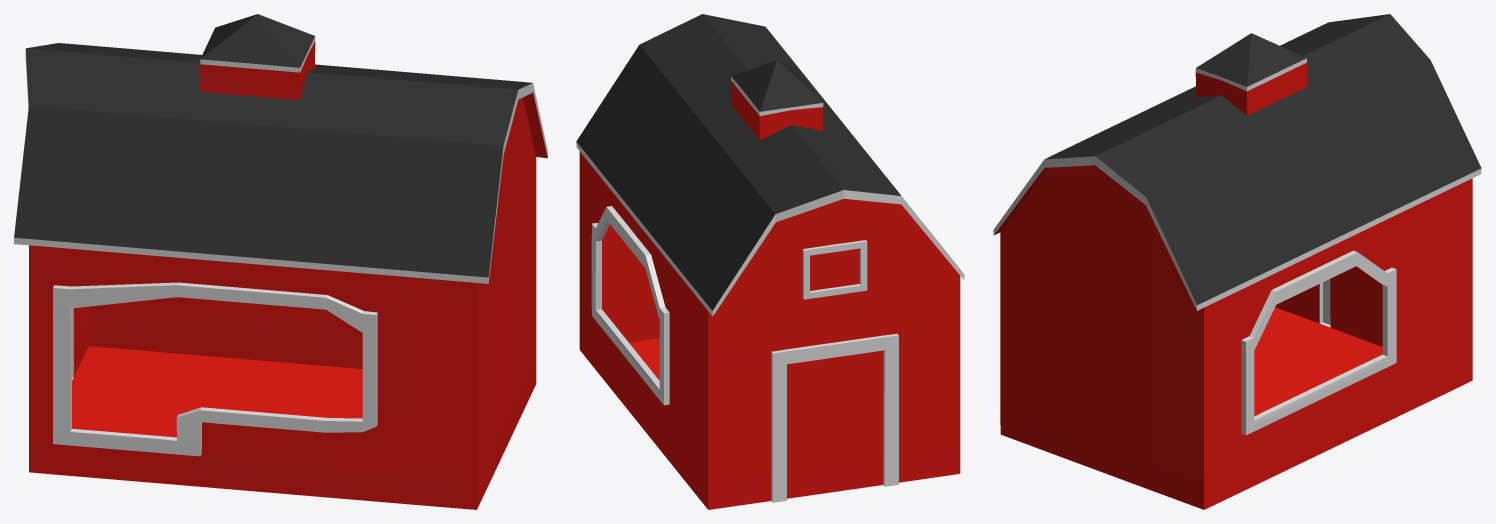
File: barn.glb
The picture shows the model from 3 angles, left to right: view 1: azimuth 30°, elevation 25°; view 2: azimuth 150°, elevation 25°; view 3: azimuth 270°, elevation 25°; orthographic projection. The views are drawn at different scales.
Parts seen in each view (by area): view 1: barn; view 2: barn; view 3: barn.
Part boxes in pixels (x1,y1,x2,y2): barn: (14,14,547,509); barn: (576,14,964,509); barn: (993,14,1481,509).
Bounding box in the file's own units: 28.12 × 22.67 × 27.29.
